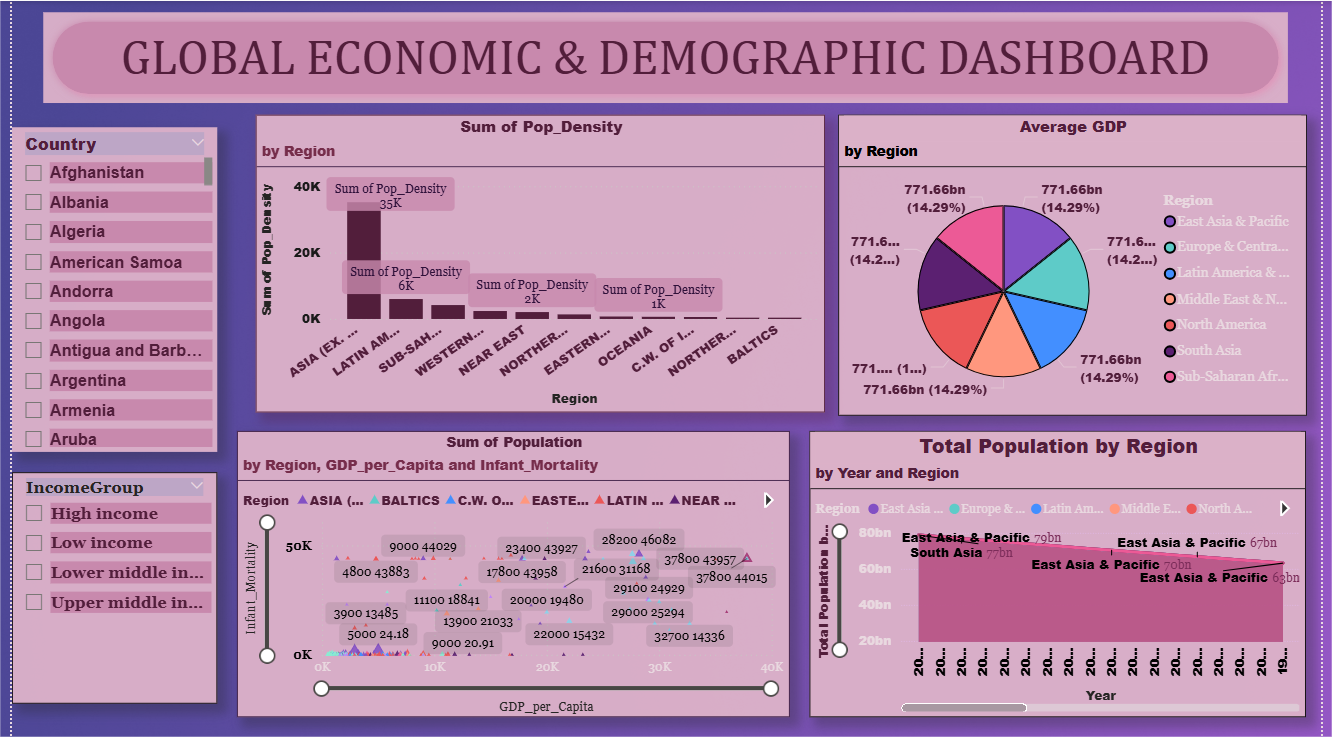

What the dashboard file says about the page in this screenshot:
{"tool":"powerbi","page":{"name":"Dashbard2(Milestone 2)","canvas":[1280,720],"ordinal":1},"visuals":[{"type":"clusteredColumnChart","fields":{"Category":["countries countries_world.Region"],"Y":["Sum(countries countries_world.Pop_Density)"]},"box":[238,111.7,557,291.5],"z":0},{"type":"shape","box":[30.8,11.3,1217.7,89.1],"z":1000},{"type":"slicer","fields":{"Values":["MetaData Country.Country"]},"box":[0,123.1,200.8,317.4],"z":2000},{"type":"slicer","fields":{"Values":["MetaData Country.IncomeGroup"]},"box":[0,461.5,200.8,226.7],"z":3000},{"type":"pieChart","fields":{"Y":["GDP by country 1960 - 2016.Average GDP"],"Category":["MetaData Country.Region"]},"box":[808,111.7,458.2,294.7],"z":4000},{"type":"scatterChart","fields":{"X":["countries countries_world.GDP_per_Capita"],"Y":["countries countries_world.Infant_Mortality"],"Size":["Sum(countries countries_world.Population)"],"Series":["countries countries_world.Region"]},"box":[220.2,421,540.8,280.1],"z":5000},{"type":"areaChart","fields":{"Category":["PopulationPerCountry.Year"],"Y":["PopulationPerCountry.Total Population by Region"],"Series":["MetaData Country.Region"]},"box":[780.5,421,485.8,280.1],"z":6000}]}

Visuals, with their boxes in screenshot pixels (x1, y1, x2, y2), scaled from the page's 1280x720 canvas onto the 1332x737 screenshot:
clusteredColumnChart - countries countries_world.Region x Sum(countries countries_world.Pop_Density): 248/114/827/413
shape: 32/12/1299/103
slicer - MetaData Country.Country: 0/126/209/451
slicer - MetaData Country.IncomeGroup: 0/472/209/704
pieChart - GDP by country 1960 - 2016.Average GDP x MetaData Country.Region: 841/114/1318/416
scatterChart - countries countries_world.GDP_per_Capita x countries countries_world.Infant_Mortality: 229/431/792/718
areaChart - PopulationPerCountry.Year x PopulationPerCountry.Total Population by Region: 812/431/1318/718
